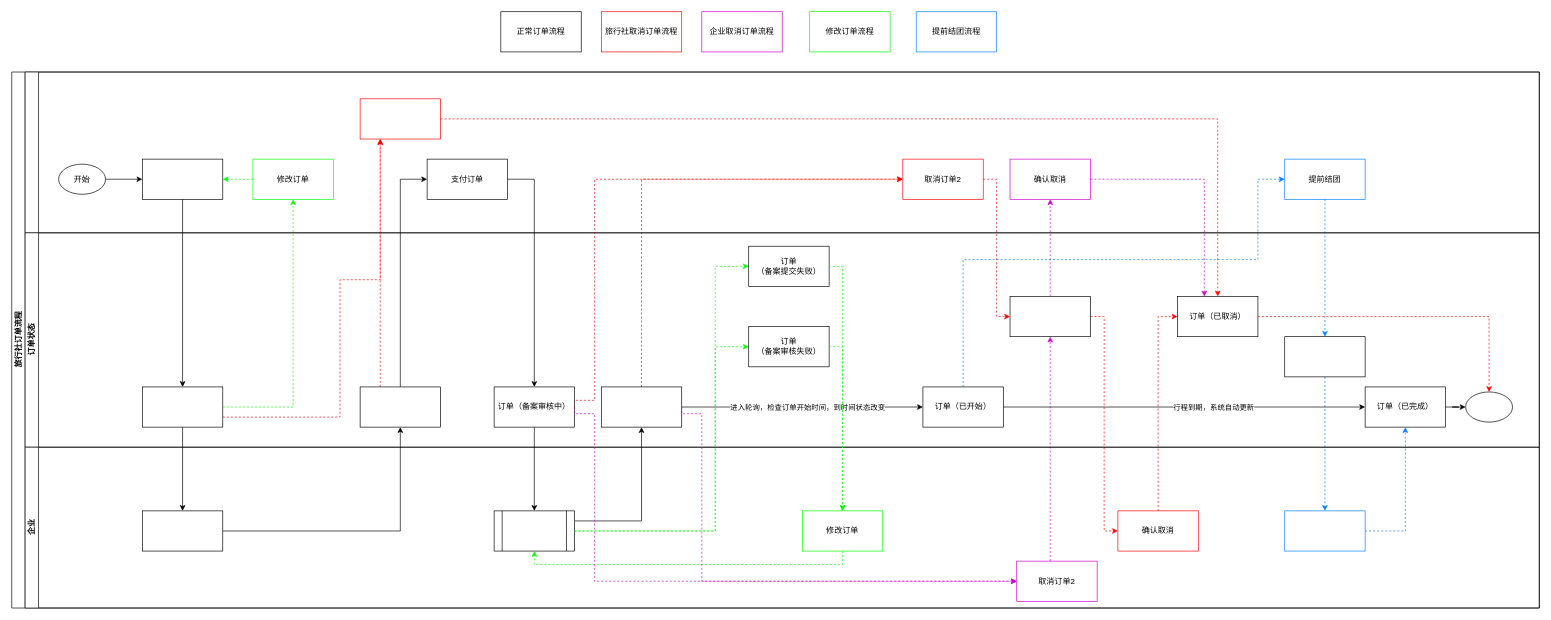
Some shapes in this 1551 by 620 pixel diagram are drawn without their labels. The shapes that lost their labels are listed below. From the top down, each one's box as (x1, y1, x2, y2) in pixels, then its label:
(359, 98, 441, 139): 取消订单1
(24, 71, 1539, 233): 旅行社
(142, 158, 223, 199): 提交订单
(1009, 296, 1090, 337): 订单 （取消待确认）
(1284, 336, 1365, 377): 订单 （结团待确认）
(142, 386, 223, 427): 订单（已提交）
(359, 386, 441, 427): 订单（待支付）
(601, 386, 682, 427): 订单（审核完成）
(1465, 391, 1513, 422): 结束
(142, 510, 223, 551): 确认订单
(493, 510, 575, 551): 备案审核
(1284, 510, 1365, 551): 确认结团
